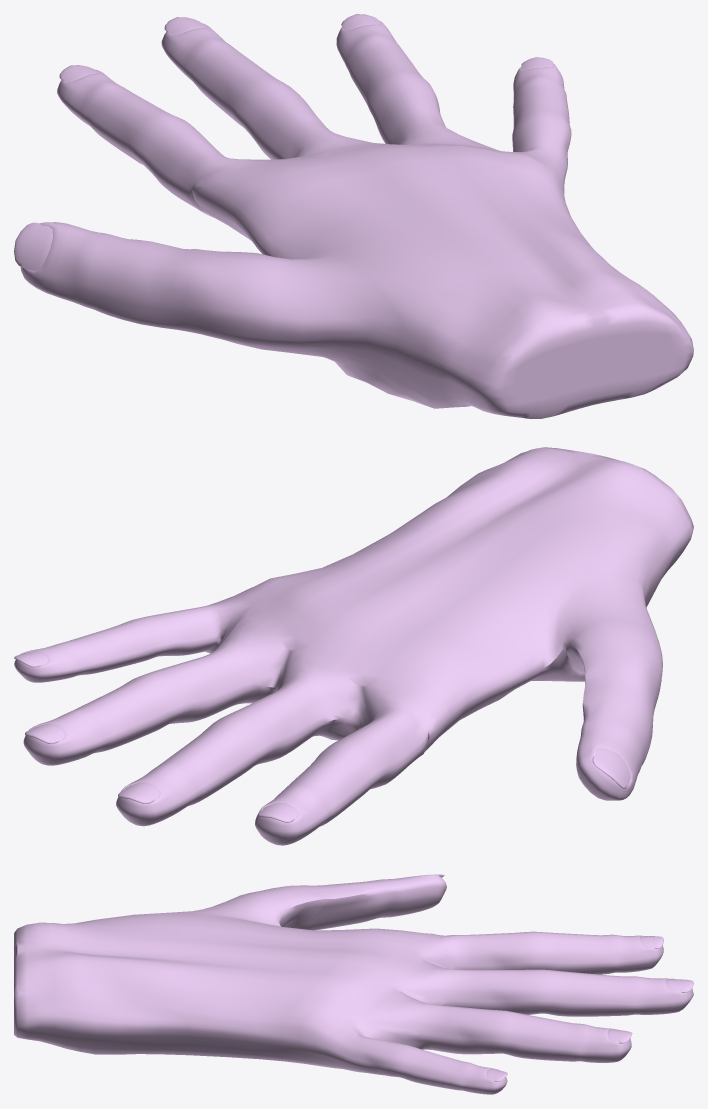
3 renders of one model, top to bottom at view 1: azimuth 30°, elevation 25°; view 2: azimuth 150°, elevation 25°; view 3: azimuth 270°, elevation 25°, orthographic. The views are drawn at different scales.
Visible parts, largest first — view 1: split_parent_0; view 2: split_parent_0; view 3: split_parent_0.
Boxes of the visible parts, bbox=[...] form: split_parent_0: bbox=[14, 14, 693, 418]; split_parent_0: bbox=[14, 447, 693, 845]; split_parent_0: bbox=[14, 874, 693, 1094].
Size of the model in its own units: 0.7497 by 0.1601 by 1.
